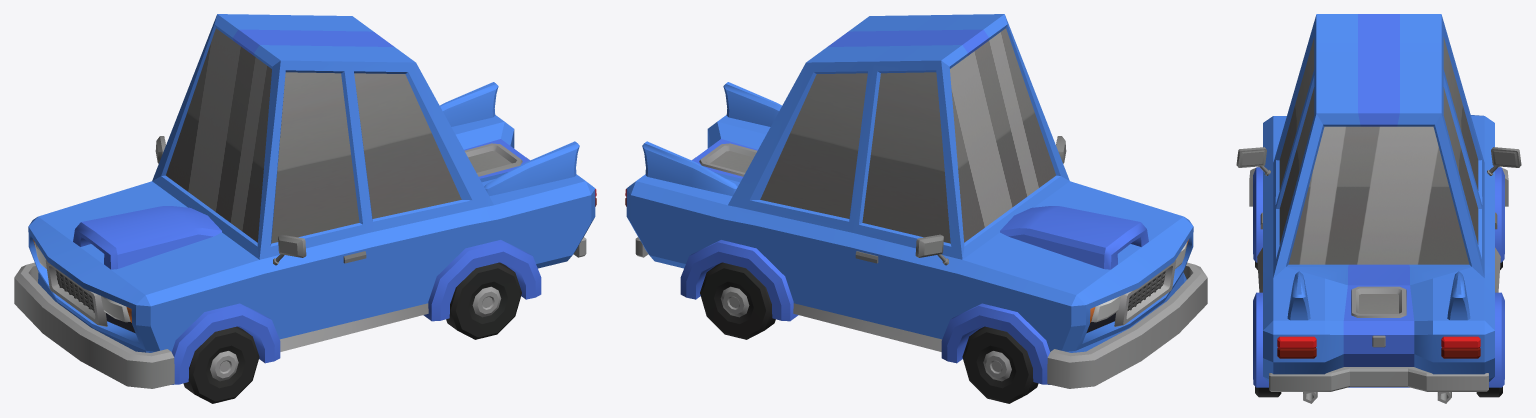
Rendered from Car_11_N.gltf.
3 views of the same model, side by side, from view 1: azimuth 30°, elevation 25°; view 2: azimuth 150°, elevation 25°; view 3: azimuth 270°, elevation 25° (orthographic).
Visible parts, largest first — view 1: Car_11_N, RL, FL; view 2: Car_11_N, RR, FR; view 3: Car_11_N.
Boxes of the visible parts, x1,y1,x2,y2 form: Car_11_N: (14, 14, 596, 388); RL: (446, 262, 521, 339); FL: (183, 326, 259, 403); Car_11_N: (625, 14, 1207, 388); RR: (700, 262, 775, 339); FR: (962, 326, 1038, 403); Car_11_N: (1236, 14, 1521, 403).
Size of the model in its own units: 3.58 by 2.1 by 1.85.
3 materials, 3 textured.
